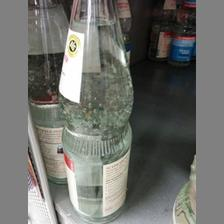Wasser: (56, 0, 136, 218)
